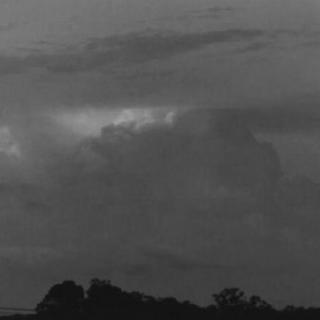Stratus: (0, 0, 320, 298)
